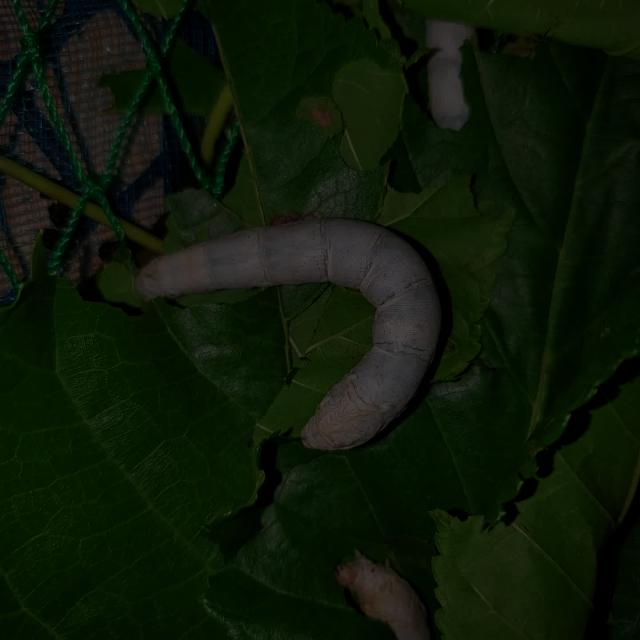Healthy: (116, 199, 482, 464)
